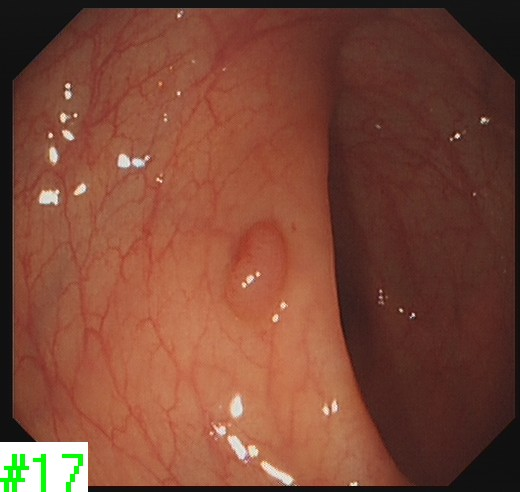adenoma: (220, 218, 290, 322)
